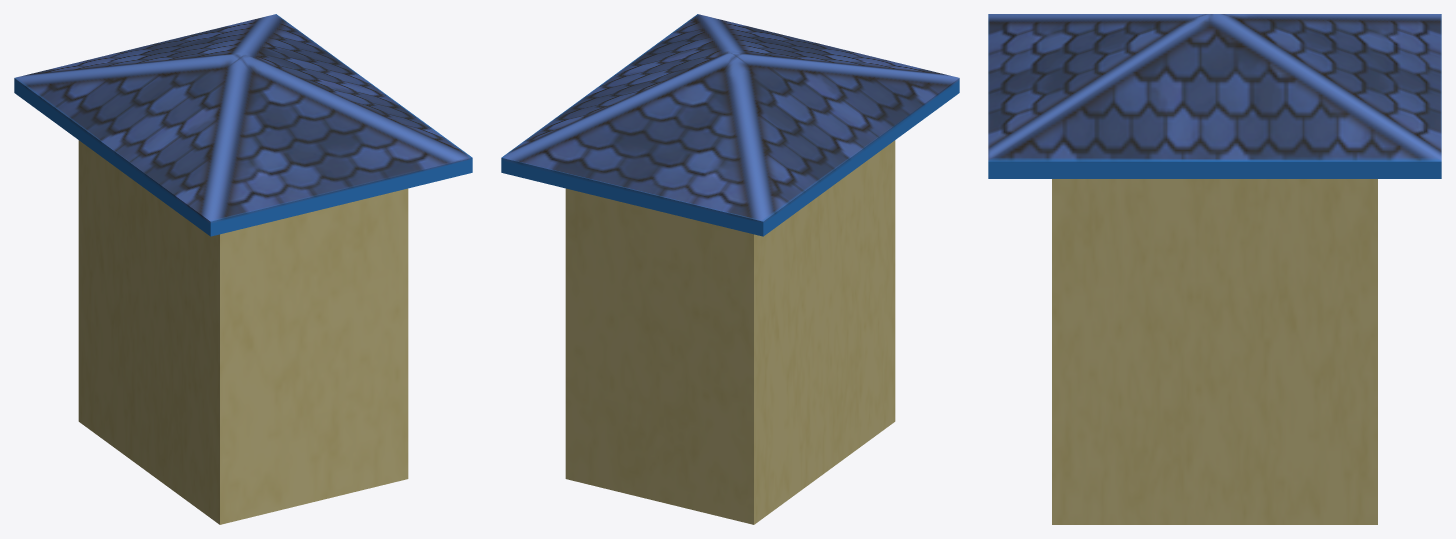
The model's file is street_restaurant_exhausthood.FBX.
3 renders of one model, left to right at view 1: azimuth 30°, elevation 25°; view 2: azimuth 150°, elevation 25°; view 3: azimuth 270°, elevation 25°, orthographic. The views are drawn at different scales.
Visible parts, largest first — view 1: street_restaurant_exhausthood; view 2: street_restaurant_exhausthood; view 3: street_restaurant_exhausthood.
Part boxes in pixels (bbox=[...]): street_restaurant_exhausthood: bbox=[14, 14, 472, 524]; street_restaurant_exhausthood: bbox=[501, 14, 959, 524]; street_restaurant_exhausthood: bbox=[988, 14, 1441, 524].
Bounding box in the file's own units: 90.81 × 131 × 118.
1 material, 1 textured.
